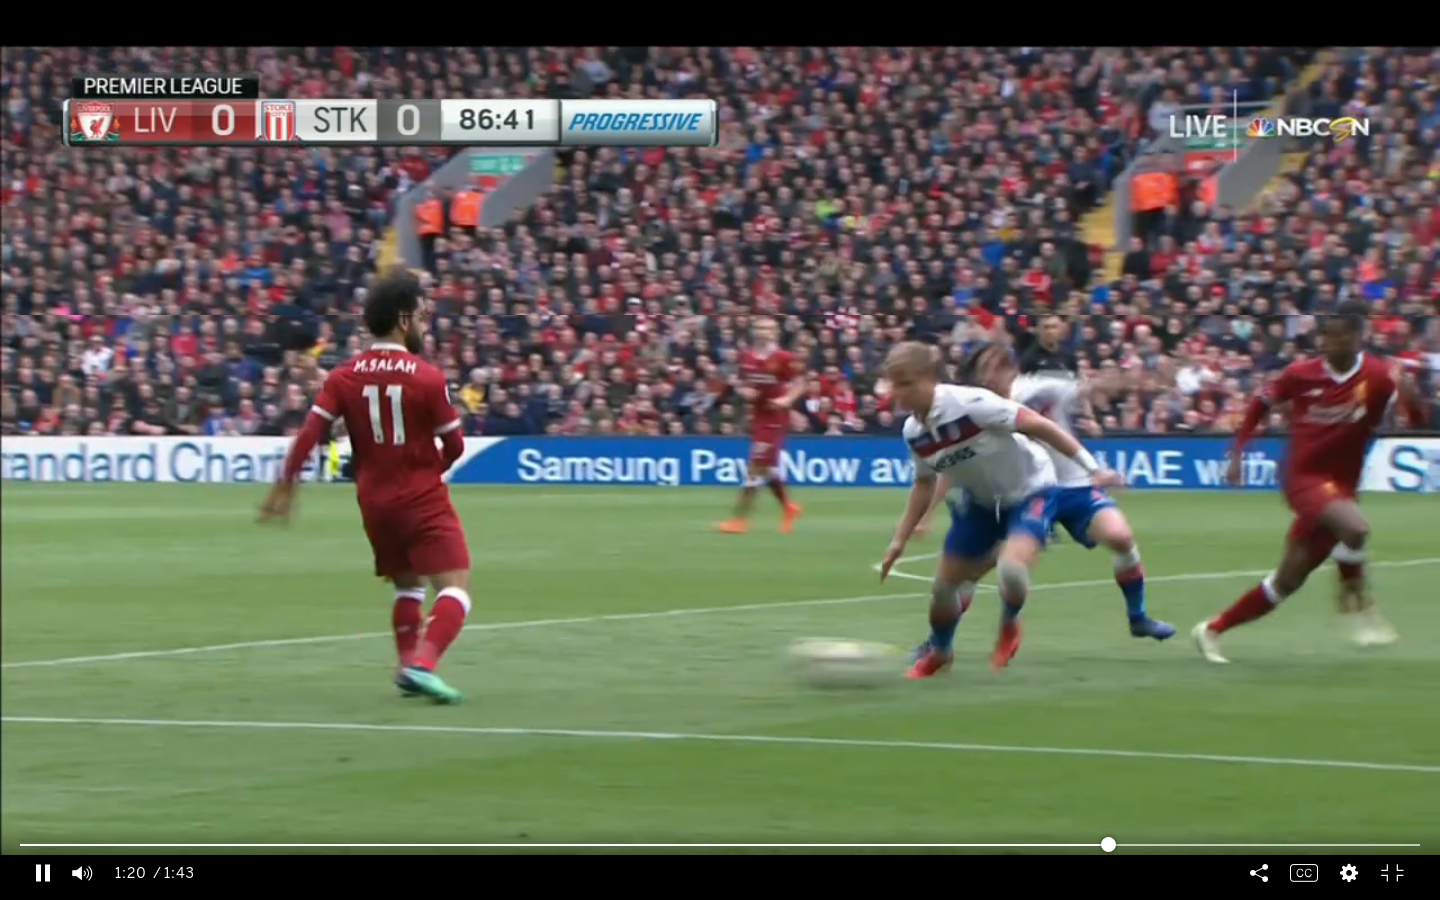soccer player: (256, 274, 478, 723), (1202, 311, 1408, 668), (979, 348, 1182, 649), (881, 346, 1050, 674), (722, 317, 810, 536)
soccerball: (790, 631, 904, 694)
